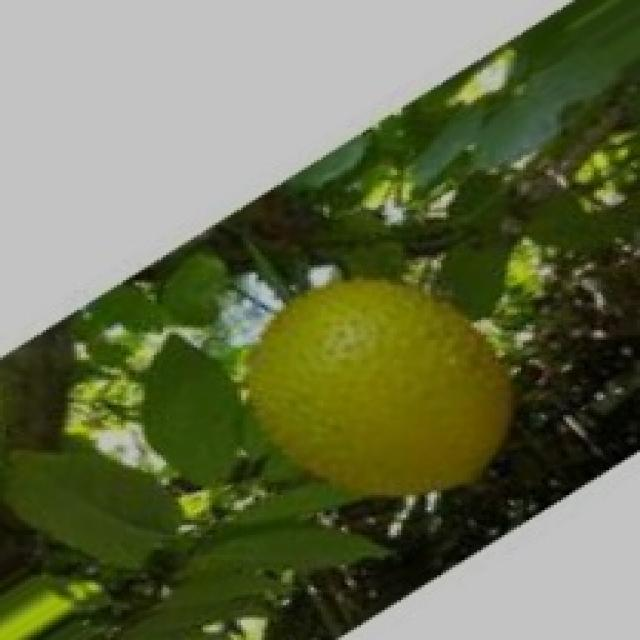Fruit: (191, 238, 557, 558), (105, 305, 268, 537)
